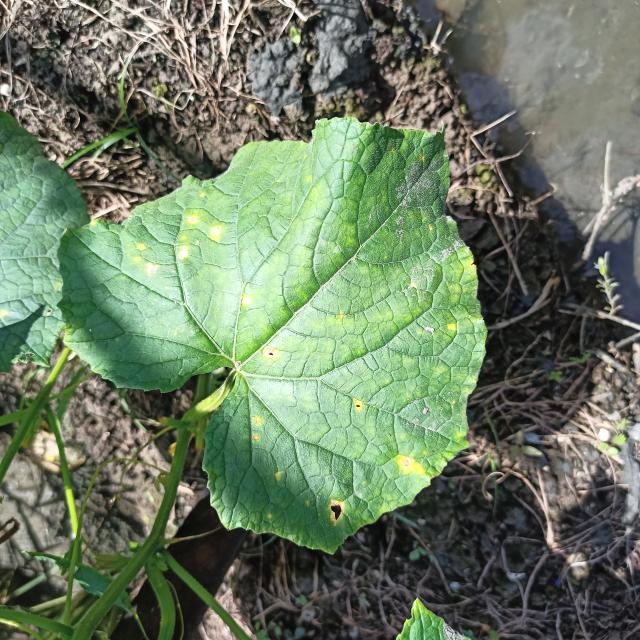disease_cucumber: (129, 212, 226, 280), (249, 408, 266, 447), (327, 491, 347, 523), (397, 454, 423, 475), (264, 342, 278, 362), (238, 295, 251, 306), (355, 400, 363, 410)
